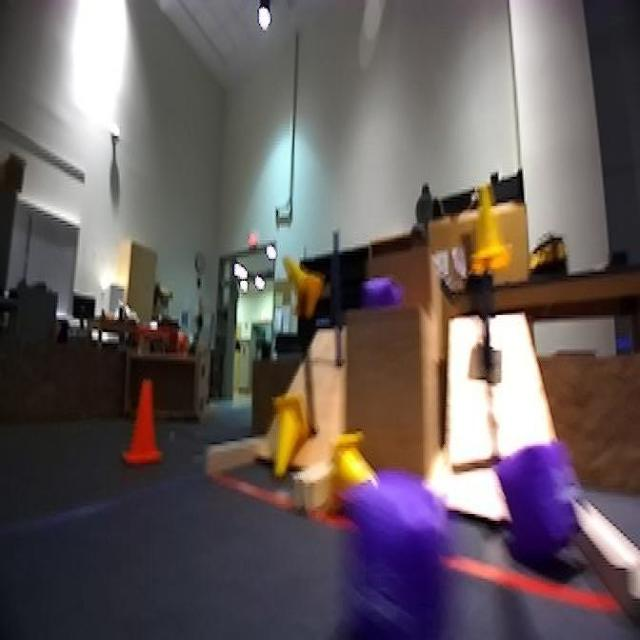frc_cone: (464, 175, 512, 279), (266, 392, 306, 490), (281, 246, 325, 316), (334, 436, 372, 506)
frc_cube: (350, 476, 470, 640), (507, 436, 583, 563), (364, 277, 411, 310)
